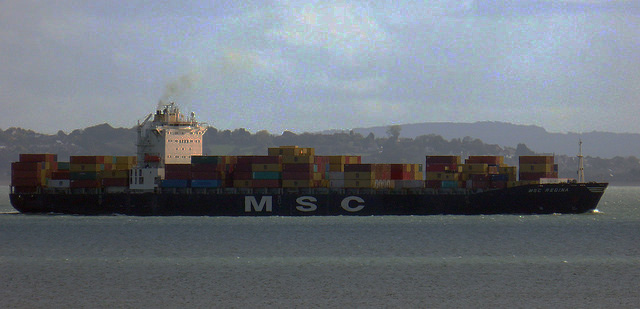container_ship: (7, 102, 606, 218)
